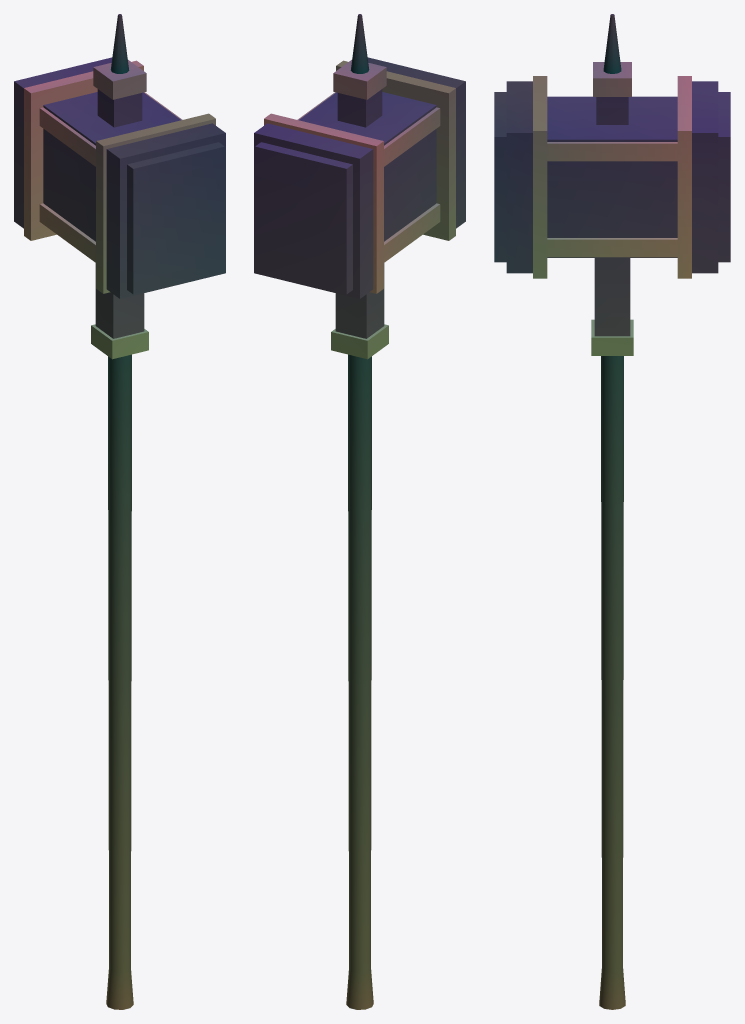
The model's file is toll_maul.glb.
The picture shows the model from 3 angles, left to right: view 1: azimuth 30°, elevation 25°; view 2: azimuth 150°, elevation 25°; view 3: azimuth 270°, elevation 25°; orthographic projection.
Visible parts, largest first — view 1: maul_head, maul_haft, maul_bands; view 2: maul_head, maul_haft, maul_bands; view 3: maul_head, maul_haft, maul_bands.
Boxes of the visible parts, x1=… form: maul_head: x1=14, y1=57, x2=225, y2=338; maul_haft: x1=106, y1=14, x2=133, y2=1009; maul_bands: x1=24, y1=60, x2=215, y2=359; maul_head: x1=254, y1=57, x2=465, y2=338; maul_haft: x1=346, y1=14, x2=373, y2=1009; maul_bands: x1=264, y1=60, x2=455, y2=359; maul_head: x1=494, y1=81, x2=730, y2=336; maul_haft: x1=599, y1=14, x2=625, y2=1009; maul_bands: x1=533, y1=62, x2=691, y2=355.
Size of the model in its own units: 0.32 by 2.68 by 0.58.
